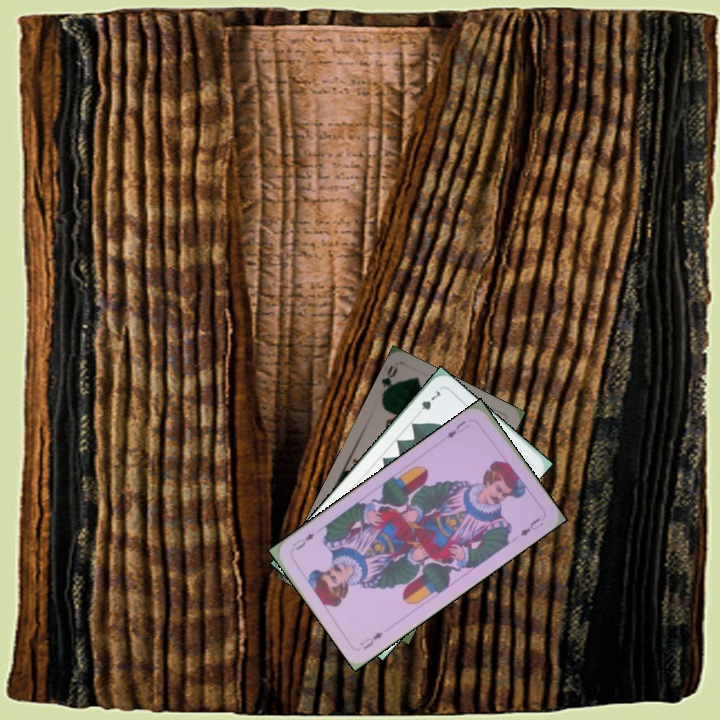EU: (442, 416, 472, 441), (356, 628, 385, 652)
G7: (412, 386, 444, 419)
GO: (378, 361, 400, 402)
